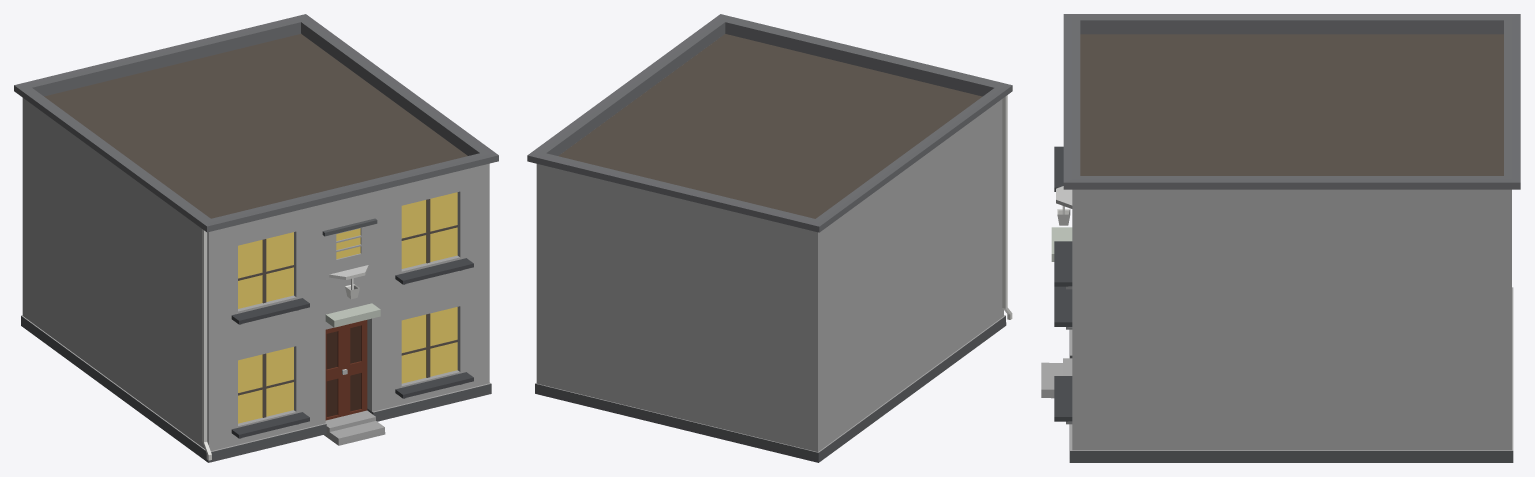
The model's file is house_new_14.glb.
3 views of the same model, side by side, from view 1: azimuth 30°, elevation 25°; view 2: azimuth 150°, elevation 25°; view 3: azimuth 270°, elevation 25° (orthographic). The views are drawn at different scales.
Visible parts, largest first — view 1: Mesh_1.002; view 2: Mesh_1.002; view 3: Mesh_1.002.
Part boxes in pixels (x1=…): Mesh_1.002: x1=14, y1=14, x2=498, y2=462; Mesh_1.002: x1=527, y1=14, x2=1012, y2=462; Mesh_1.002: x1=1041, y1=14, x2=1520, y2=462.
Bounding box in the file's own units: 8.49 × 6.74 × 10.2.
1 material, 1 textured.
